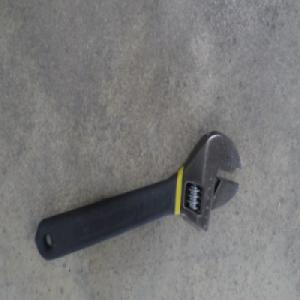AdjustableWrench: (34, 129, 243, 262)
